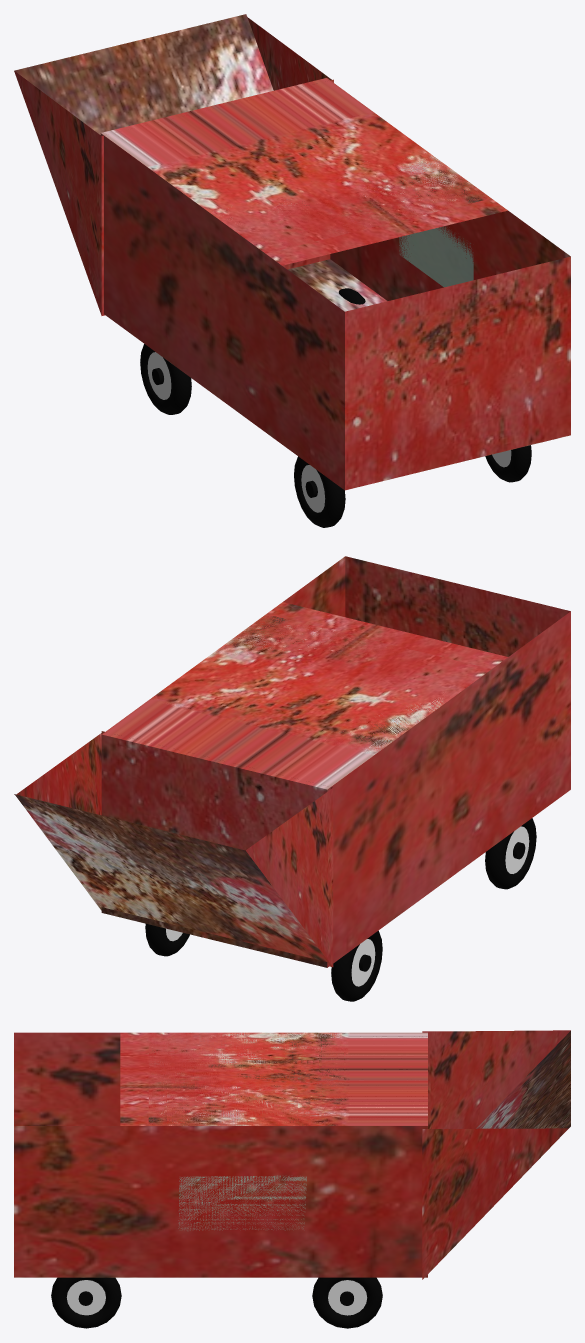
The model's file is dumpster.fbx.
The picture shows the model from 3 angles, top to bottom: view 1: azimuth 30°, elevation 25°; view 2: azimuth 150°, elevation 25°; view 3: azimuth 270°, elevation 25°; orthographic projection. The views are drawn at different scales.
Parts seen in each view (by area): view 1: polySurface58; view 2: polySurface58; view 3: polySurface58.
Part boxes in pixels (x1,y1,x2,y2): polySurface58: (14,14,570,527); polySurface58: (14,556,570,1001); polySurface58: (14,1030,570,1328).
Bounding box in the file's own units: 42.12 × 43.35 × 103.
Materials: 4 (4 with a texture image).
